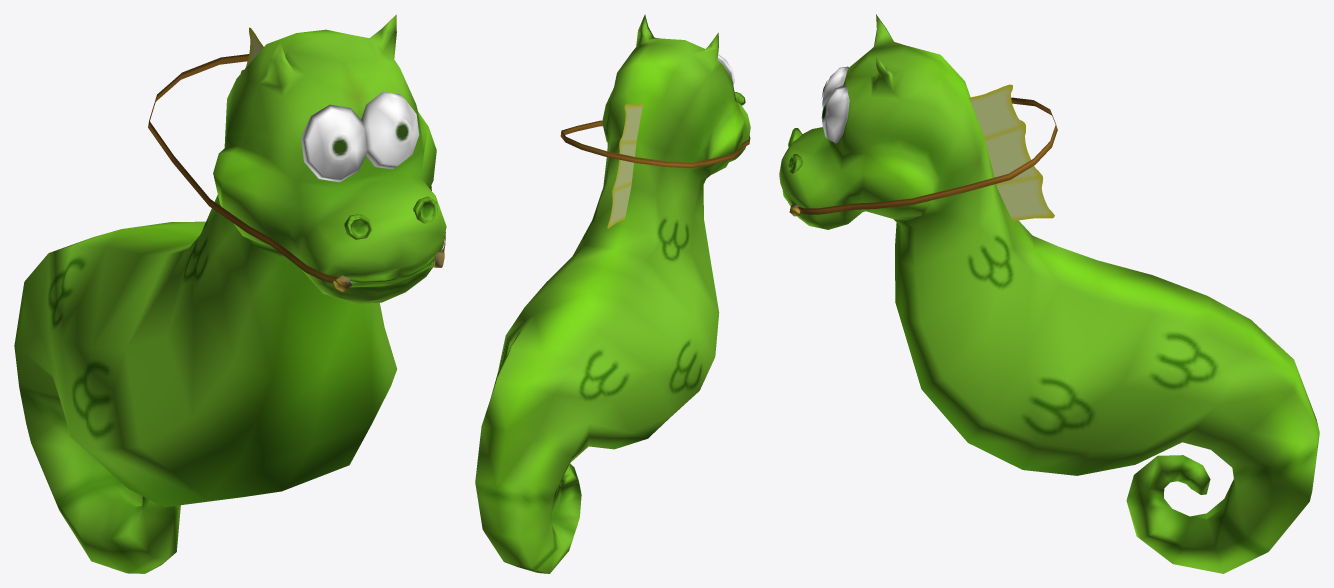
File: Caballo1_g8.obj
3 renders of one model, left to right at view 1: azimuth 30°, elevation 25°; view 2: azimuth 150°, elevation 25°; view 3: azimuth 270°, elevation 25°, orthographic. The views are drawn at different scales.
Visible parts, largest first — view 1: my.002; view 2: my.002; view 3: my.002.
Boxes of the visible parts, x1,y1,x2,y2 form: my.002: (14, 14, 446, 573); my.002: (475, 14, 750, 573); my.002: (779, 14, 1319, 573).
Size of the model in its own units: 0.9852 by 2.44 by 2.24.
